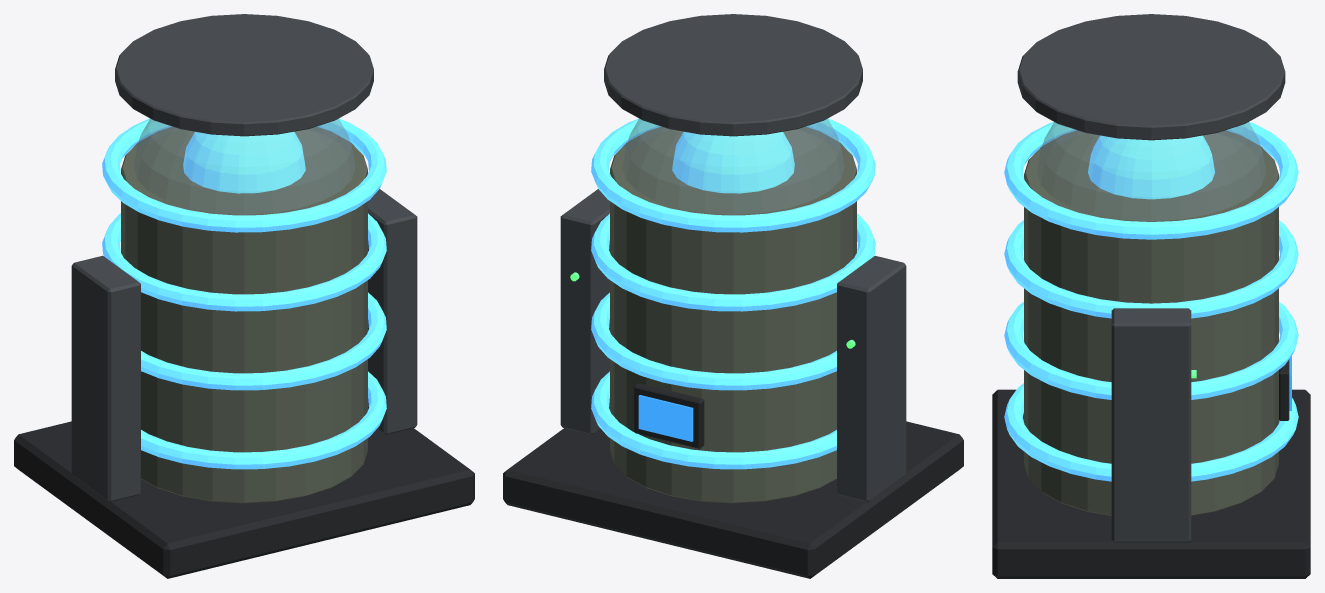
Rendered from shield_generator.glb.
3 views of the same model, side by side, from view 1: azimuth 30°, elevation 25°; view 2: azimuth 150°, elevation 25°; view 3: azimuth 270°, elevation 25° (orthographic). The views are drawn at different scales.
Visible parts, largest first — view 1: shield_generator; view 2: shield_generator; view 3: shield_generator.
Boxes of the visible parts, x1,y1,x2,y2 form: shield_generator: [14, 14, 474, 578]; shield_generator: [503, 14, 963, 578]; shield_generator: [992, 14, 1310, 578].
Size of the model in its own units: 1.4 by 1.8 by 1.2.
